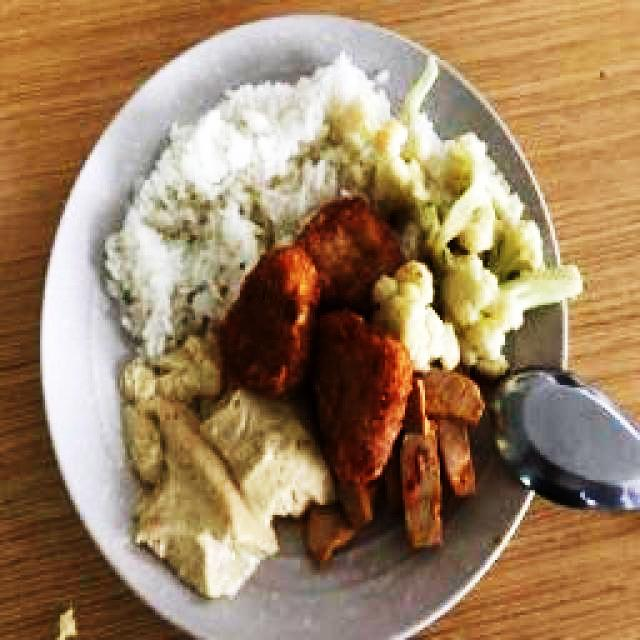chicken_nuggets: (316, 310, 409, 486), (226, 244, 319, 400), (290, 201, 401, 305)
rice: (103, 80, 239, 343), (237, 69, 334, 212)
